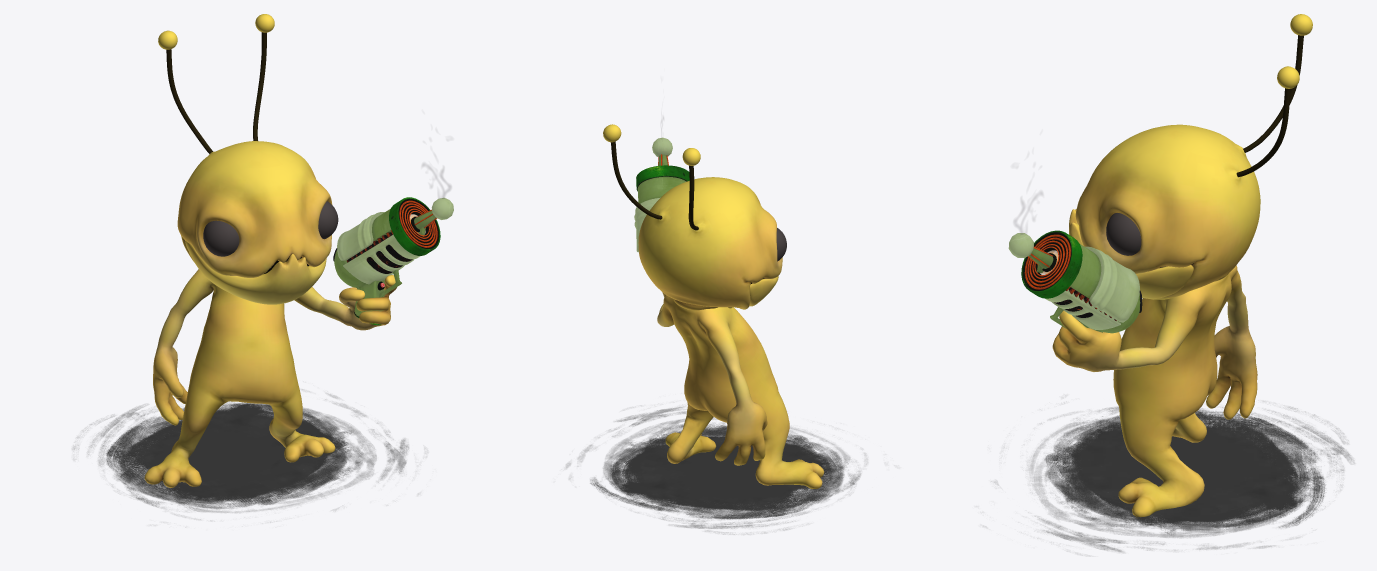
File: alien_hominid.glb
3 views of the same model, side by side, from view 1: azimuth 30°, elevation 25°; view 2: azimuth 150°, elevation 25°; view 3: azimuth 270°, elevation 25° (orthographic). The views are drawn at different scales.
Visible parts, largest first — view 1: Untitled-1_AlienHominid_0, Untitled-1_Untitled-1_0, Untitled-1_Blaster_0; view 2: Untitled-1_AlienHominid_0, Untitled-1_Untitled-1_0, Untitled-1_Blaster_0; view 3: Untitled-1_AlienHominid_0, Untitled-1_Untitled-1_0, Untitled-1_Blaster_0.
Part boxes in pixels (x1=…): Untitled-1_AlienHominid_0: x1=144, y1=14, x2=396, y2=487; Untitled-1_Untitled-1_0: x1=73, y1=389, x2=408, y2=519; Untitled-1_Blaster_0: x1=333, y1=197, x2=453, y2=325; Untitled-1_AlienHominid_0: x1=603, y1=124, x2=824, y2=488; Untitled-1_Untitled-1_0: x1=566, y1=407, x2=866, y2=534; Untitled-1_Blaster_0: x1=634, y1=137, x2=689, y2=252; Untitled-1_AlienHominid_0: x1=1052, y1=14, x2=1312, y2=517; Untitled-1_Untitled-1_0: x1=994, y1=406, x2=1354, y2=552; Untitled-1_Blaster_0: x1=1008, y1=230, x2=1142, y2=333.
Bounding box in the file's own units: 1561 × 2050 × 1513.
4 materials, 4 textured.
